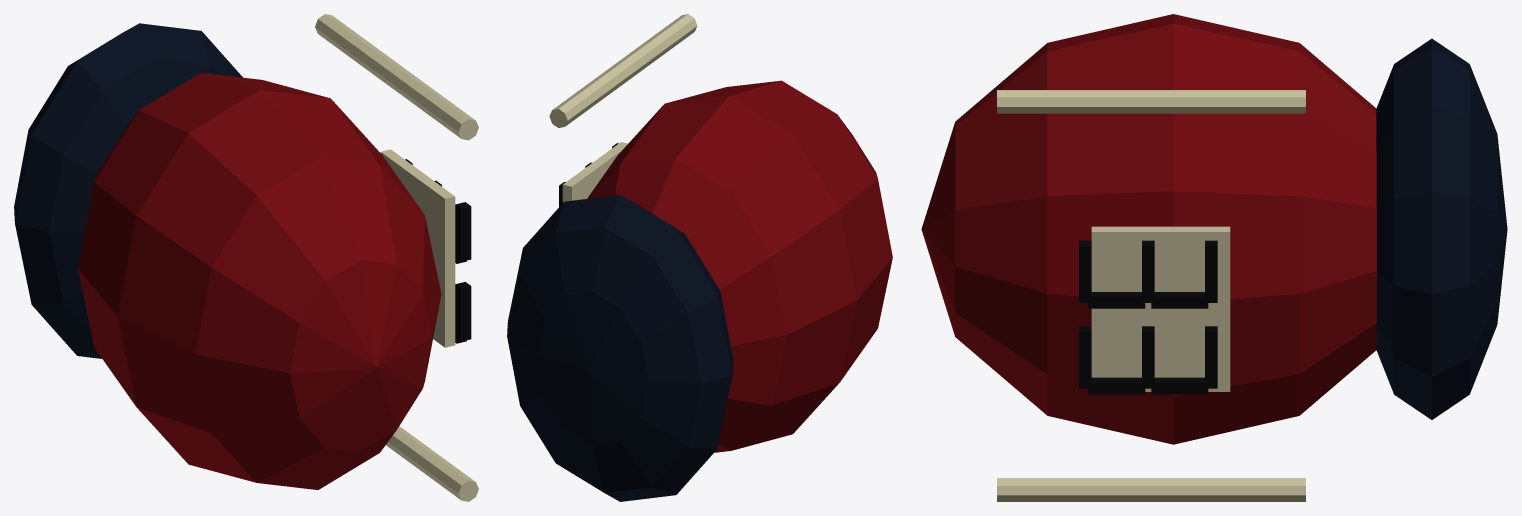
Rendered from Resident4Body.obj.
3 renders of one model, left to right at view 1: azimuth 30°, elevation 25°; view 2: azimuth 150°, elevation 25°; view 3: azimuth 270°, elevation 25°, orthographic. The views are drawn at different scales.
Parts seen in each view (by area): view 1: Resident4Body; view 2: Resident4Body; view 3: Resident4Body.
Part boxes in pixels (box(x1,y1,x2,y2)): Resident4Body: box(14, 14, 478, 501); Resident4Body: box(507, 14, 892, 501); Resident4Body: box(921, 14, 1507, 501).
Size of the model in its own units: 61 by 72 by 93.
